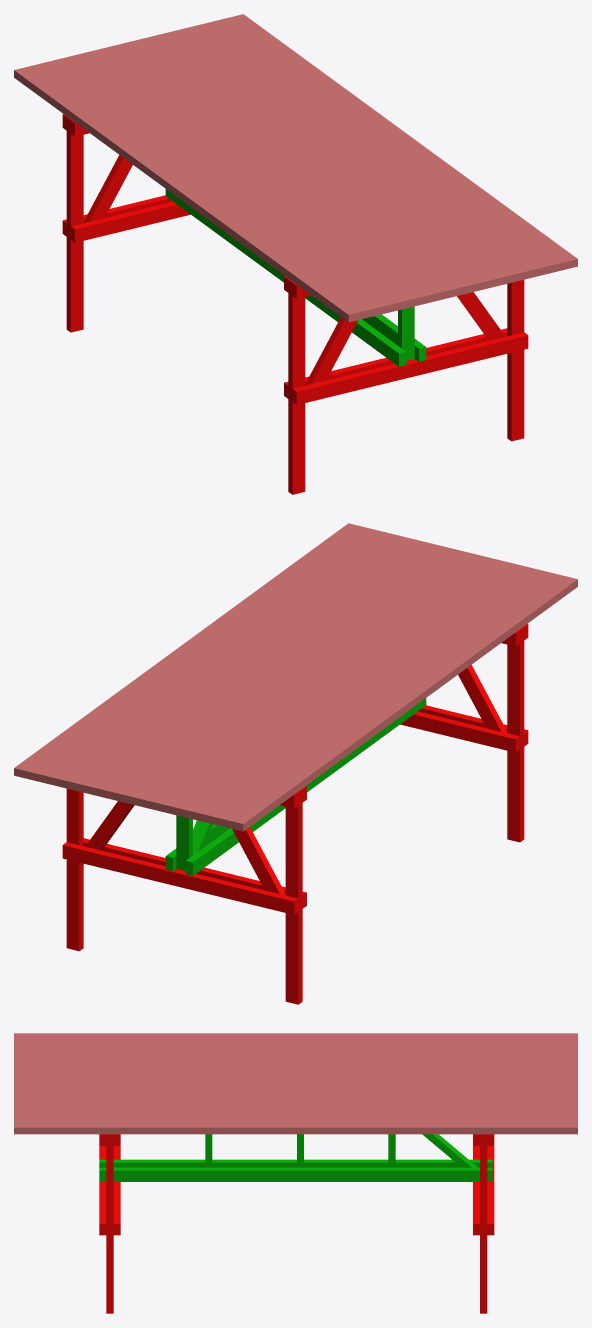
File: result.glb
3 renders of one model, top to bottom at view 1: azimuth 30°, elevation 25°; view 2: azimuth 150°, elevation 25°; view 3: azimuth 270°, elevation 25°, orthographic. The views are drawn at different scales.
Visible parts, largest first — view 1: 2478657d-f7a2-49ff-b5d0-e263ef44bb0c__Box, e2ecdd73-e297-4f35-992e-4a7c37713887__undefined, 0d9a9658-7d8a-4814-b3ff-68be02cd641f__undefined, ba0f7e0f-7092-4615-ba66-f1e33c96bc6a__undefined, 86a181be-1e87-4389-a635-544351de8f9a__undefined, e891aab7-ba2b-45af-b588-9055ef31edb0__undefined, c9567a33-f050-493a-913a-983b2ba3267e__undefined, b5806fed-41f0-45ba-bded-9d2e35402599__undefined, 3c9ad0fa-00f7-419d-b055-1b4b64525d4f__undefined, b52be1a9-06c6-40d9-90be-0615625f07dc__undefined, c64b88b7-5d5c-46e5-93e8-3bcea93c99e0__undefined, 3854e478-4435-4ef5-a359-b7cd798af836__undefined (+19 smaller); view 2: 2478657d-f7a2-49ff-b5d0-e263ef44bb0c__Box, 0d9a9658-7d8a-4814-b3ff-68be02cd641f__undefined, 86a181be-1e87-4389-a635-544351de8f9a__undefined, e891aab7-ba2b-45af-b588-9055ef31edb0__undefined, ba0f7e0f-7092-4615-ba66-f1e33c96bc6a__undefined, c9567a33-f050-493a-913a-983b2ba3267e__undefined, e2ecdd73-e297-4f35-992e-4a7c37713887__undefined, b5806fed-41f0-45ba-bded-9d2e35402599__undefined, 3c9ad0fa-00f7-419d-b055-1b4b64525d4f__undefined, 7ea46270-053a-4fcd-baf1-8b19f7fe531e__undefined, a81d86a8-477b-4a2d-b51f-793f9c6e9a4a__undefined, 3854e478-4435-4ef5-a359-b7cd798af836__undefined (+18 smaller); view 3: 2316e5e1-f0d9-4156-b716-c77808c60d88__undefined, a4f3d1c7-562d-466c-a9b3-a5d3fc4977f3__strutH, 2478657d-f7a2-49ff-b5d0-e263ef44bb0c__Box, 7ea46270-053a-4fcd-baf1-8b19f7fe531e__undefined, 86a181be-1e87-4389-a635-544351de8f9a__undefined, e2ecdd73-e297-4f35-992e-4a7c37713887__undefined, f433fcc8-af8a-4139-8f67-ded8666812e0__undefined, e891aab7-ba2b-45af-b588-9055ef31edb0__undefined, 0d9a9658-7d8a-4814-b3ff-68be02cd641f__undefined, b52be1a9-06c6-40d9-90be-0615625f07dc__undefined, b5806fed-41f0-45ba-bded-9d2e35402599__undefined, 3c9ad0fa-00f7-419d-b055-1b4b64525d4f__undefined (+15 smaller).
Part boxes in pixels (left/top/right/bottom): 2478657d-f7a2-49ff-b5d0-e263ef44bb0c__Box: left=14, top=67, right=361, bottom=322; e2ecdd73-e297-4f35-992e-4a7c37713887__undefined: left=65, top=54, right=412, bottom=309; 0d9a9658-7d8a-4814-b3ff-68be02cd641f__undefined: left=116, top=42, right=463, bottom=297; ba0f7e0f-7092-4615-ba66-f1e33c96bc6a__undefined: left=205, top=20, right=552, bottom=275; 86a181be-1e87-4389-a635-544351de8f9a__undefined: left=52, top=57, right=399, bottom=312; e891aab7-ba2b-45af-b588-9055ef31edb0__undefined: left=103, top=45, right=450, bottom=300; c9567a33-f050-493a-913a-983b2ba3267e__undefined: left=218, top=17, right=565, bottom=272; b5806fed-41f0-45ba-bded-9d2e35402599__undefined: left=154, top=33, right=501, bottom=287; 3c9ad0fa-00f7-419d-b055-1b4b64525d4f__undefined: left=167, top=29, right=514, bottom=284; b52be1a9-06c6-40d9-90be-0615625f07dc__undefined: left=129, top=39, right=475, bottom=294; c64b88b7-5d5c-46e5-93e8-3bcea93c99e0__undefined: left=142, top=36, right=488, bottom=291; 3854e478-4435-4ef5-a359-b7cd798af836__undefined: left=193, top=23, right=539, bottom=278; 2478657d-f7a2-49ff-b5d0-e263ef44bb0c__Box: left=230, top=576, right=577, bottom=831; 0d9a9658-7d8a-4814-b3ff-68be02cd641f__undefined: left=128, top=551, right=475, bottom=806; 86a181be-1e87-4389-a635-544351de8f9a__undefined: left=192, top=567, right=539, bottom=822; e891aab7-ba2b-45af-b588-9055ef31edb0__undefined: left=141, top=554, right=488, bottom=809; ba0f7e0f-7092-4615-ba66-f1e33c96bc6a__undefined: left=39, top=529, right=386, bottom=784; c9567a33-f050-493a-913a-983b2ba3267e__undefined: left=26, top=526, right=373, bottom=781; e2ecdd73-e297-4f35-992e-4a7c37713887__undefined: left=179, top=563, right=526, bottom=818; b5806fed-41f0-45ba-bded-9d2e35402599__undefined: left=90, top=542, right=437, bottom=797; 3c9ad0fa-00f7-419d-b055-1b4b64525d4f__undefined: left=77, top=539, right=424, bottom=793; 7ea46270-053a-4fcd-baf1-8b19f7fe531e__undefined: left=218, top=573, right=564, bottom=828; a81d86a8-477b-4a2d-b51f-793f9c6e9a4a__undefined: left=154, top=557, right=500, bottom=812; 3854e478-4435-4ef5-a359-b7cd798af836__undefined: left=52, top=532, right=398, bottom=787; 2316e5e1-f0d9-4156-b716-c77808c60d88__undefined: left=14, top=1122, right=577, bottom=1134; a4f3d1c7-562d-466c-a9b3-a5d3fc4977f3__strutH: left=99, top=1167, right=492, bottom=1181; 2478657d-f7a2-49ff-b5d0-e263ef44bb0c__Box: left=14, top=1033, right=577, bottom=1038; 7ea46270-053a-4fcd-baf1-8b19f7fe531e__undefined: left=14, top=1038, right=577, bottom=1043; 86a181be-1e87-4389-a635-544351de8f9a__undefined: left=14, top=1049, right=577, bottom=1054; e2ecdd73-e297-4f35-992e-4a7c37713887__undefined: left=14, top=1054, right=577, bottom=1059; f433fcc8-af8a-4139-8f67-ded8666812e0__undefined: left=14, top=1059, right=577, bottom=1064; e891aab7-ba2b-45af-b588-9055ef31edb0__undefined: left=14, top=1070, right=577, bottom=1075; 0d9a9658-7d8a-4814-b3ff-68be02cd641f__undefined: left=14, top=1075, right=577, bottom=1080; b52be1a9-06c6-40d9-90be-0615625f07dc__undefined: left=14, top=1080, right=577, bottom=1085; b5806fed-41f0-45ba-bded-9d2e35402599__undefined: left=14, top=1091, right=577, bottom=1096; 3c9ad0fa-00f7-419d-b055-1b4b64525d4f__undefined: left=14, top=1096, right=577, bottom=1101.
Bounding box in the file's own units: 800 × 725 × 2000.
